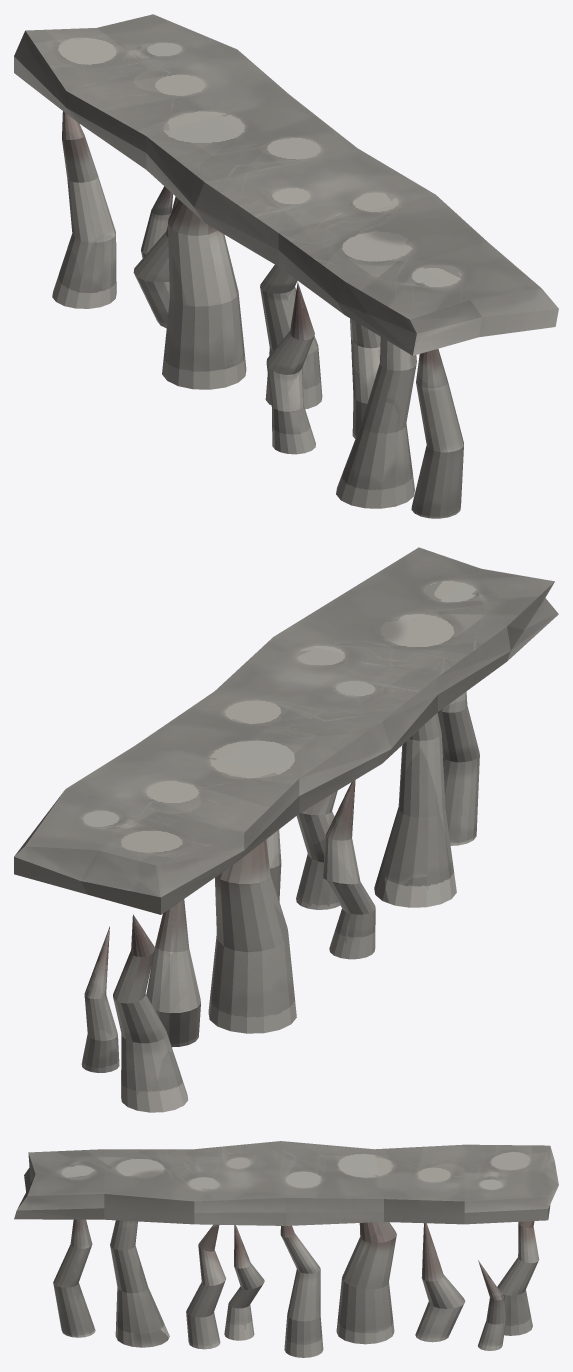
The model's file is spikes_animated.fbx.
The picture shows the model from 3 angles, top to bottom: view 1: azimuth 30°, elevation 25°; view 2: azimuth 150°, elevation 25°; view 3: azimuth 270°, elevation 25°; orthographic projection. The views are drawn at different scales.
Parts seen in each view (by area): view 1: spikes_base, spikes; view 2: spikes_base, spikes; view 3: spikes_base, spikes.
Part boxes in pixels (left/top/right/bottom): spikes_base: left=14, top=14, right=558, bottom=355; spikes: left=52, top=111, right=463, bottom=518; spikes_base: left=14, top=547, right=558, bottom=914; spikes: left=81, top=620, right=479, bottom=1112; spikes_base: left=14, top=1141, right=558, bottom=1225; spikes: left=53, top=1171, right=539, bottom=1357.
Size of the model in its own units: 79.87 by 304 by 108.
